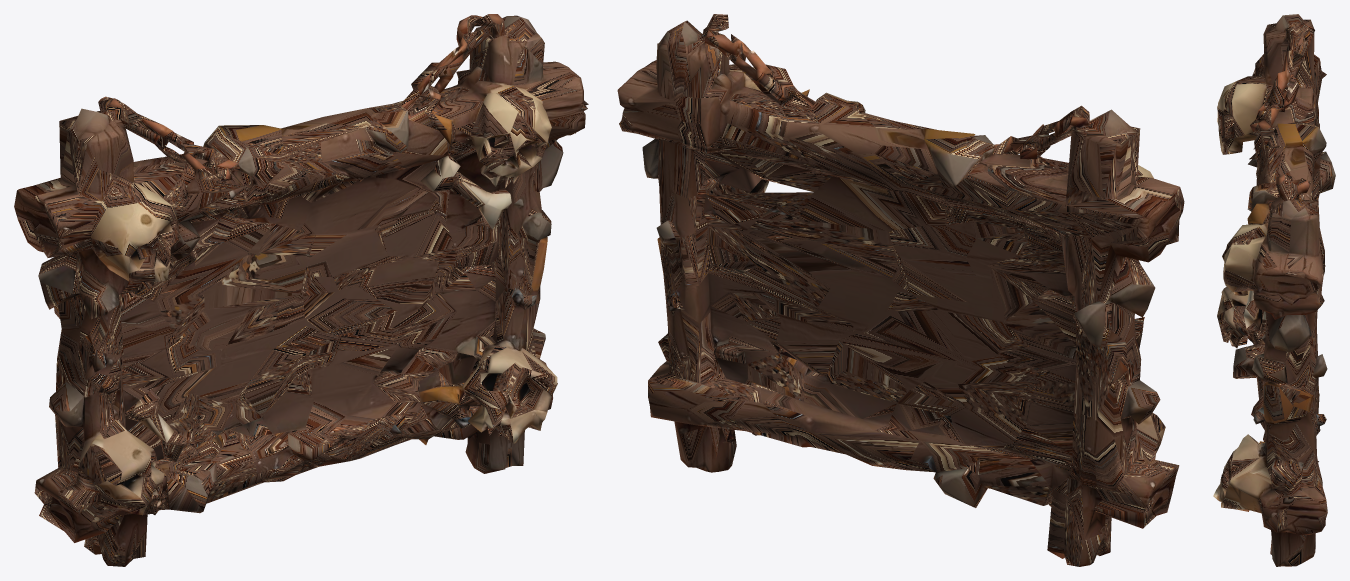
The model's file is stylized_dungeon_sign_01.glb.
3 renders of one model, left to right at view 1: azimuth 30°, elevation 25°; view 2: azimuth 150°, elevation 25°; view 3: azimuth 270°, elevation 25°, orthographic. The views are drawn at different scales.
Parts seen in each view (by area): view 1: tripo_node_c7d84f65-2e06-4b14-9544-cab2aed9107b; view 2: tripo_node_c7d84f65-2e06-4b14-9544-cab2aed9107b; view 3: tripo_node_c7d84f65-2e06-4b14-9544-cab2aed9107b.
Part boxes in pixels (<box>): tripo_node_c7d84f65-2e06-4b14-9544-cab2aed9107b: <box>14,14,588,566</box>; tripo_node_c7d84f65-2e06-4b14-9544-cab2aed9107b: <box>617,14,1184,566</box>; tripo_node_c7d84f65-2e06-4b14-9544-cab2aed9107b: <box>1213,14,1335,566</box>.
Bounding box in the file's own units: 0.9813 × 0.7965 × 0.2308.
Materials: 1 (1 with a texture image).
